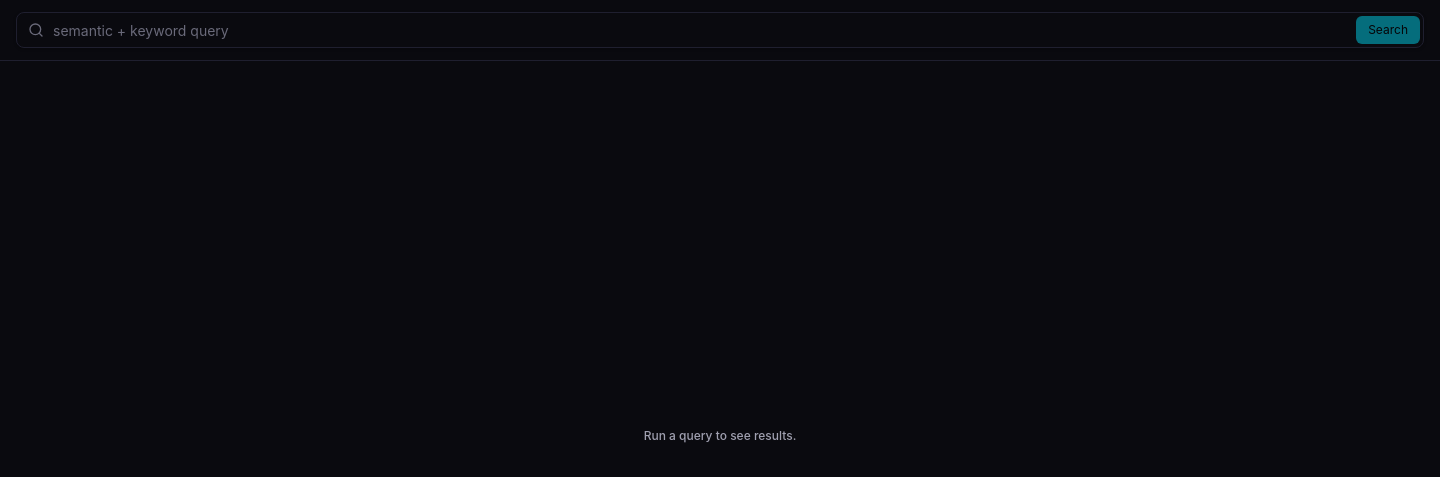
Test case: VaultSearchTab responses (WEB-22) › reports a failed search instead of "no matches"
The width and height of the screenshot is (1440, 477).
In the field: [720, 30] box [16,12,1424,48], type "Foo"
Then press Enter
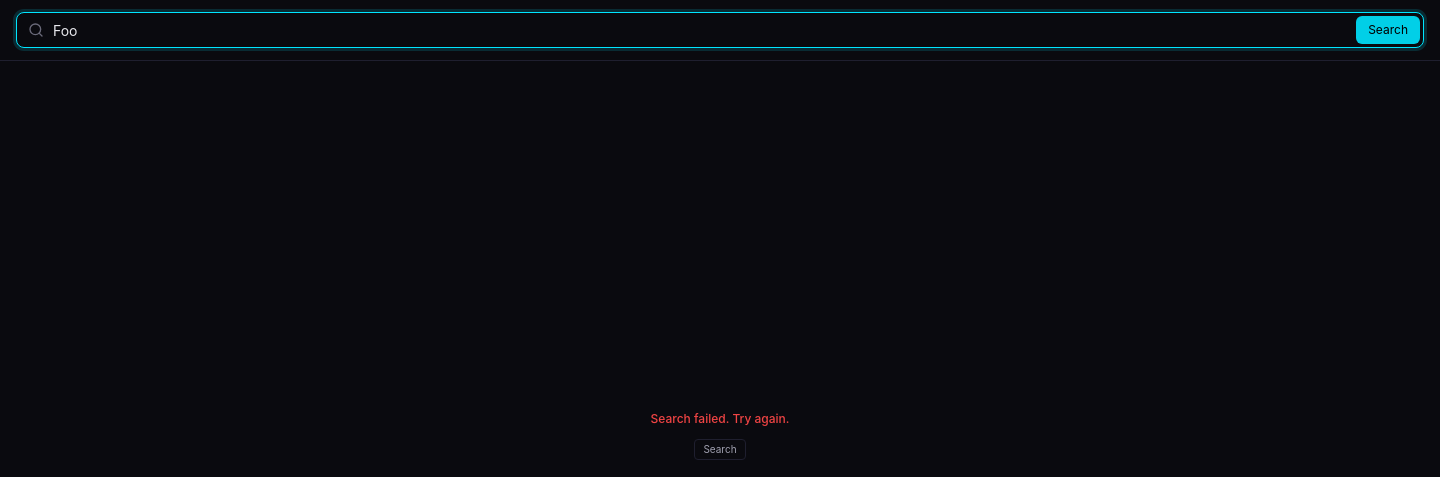
expect the text "Search failed. Try again." is shown: met, box [650,411,789,427]
